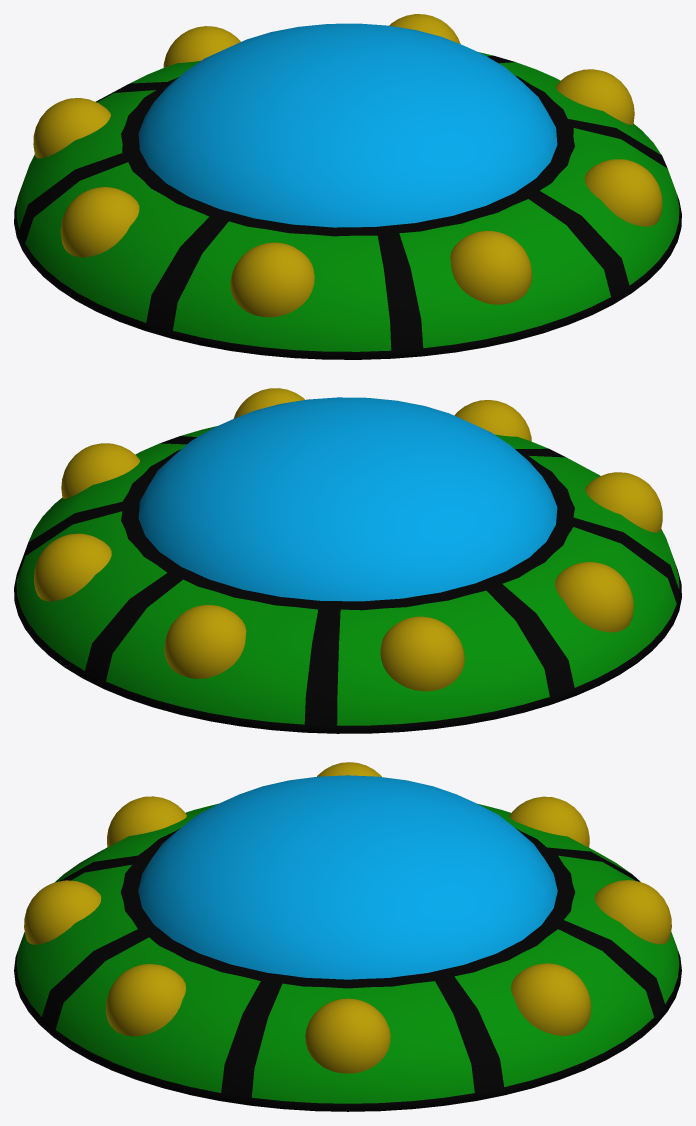
The model's file is Ovni.fbx.
3 renders of one model, top to bottom at view 1: azimuth 30°, elevation 25°; view 2: azimuth 150°, elevation 25°; view 3: azimuth 270°, elevation 25°, orthographic.
Visible parts, largest first — view 1: Circle; view 2: Circle; view 3: Circle.
Part boxes in pixels (<box>): Circle: <box>14,14,681,359</box>; Circle: <box>14,388,681,733</box>; Circle: <box>14,762,681,1111</box>.
Bounding box in the file's own units: 424 × 125 × 424.
